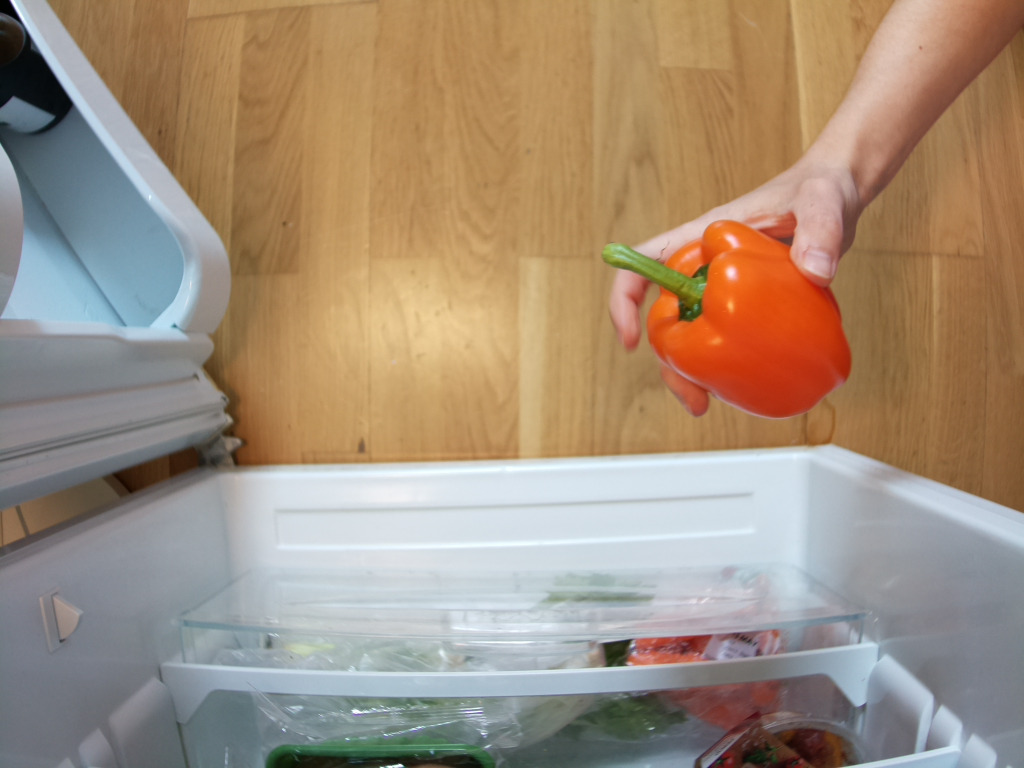pepper: (601, 220, 855, 421)
